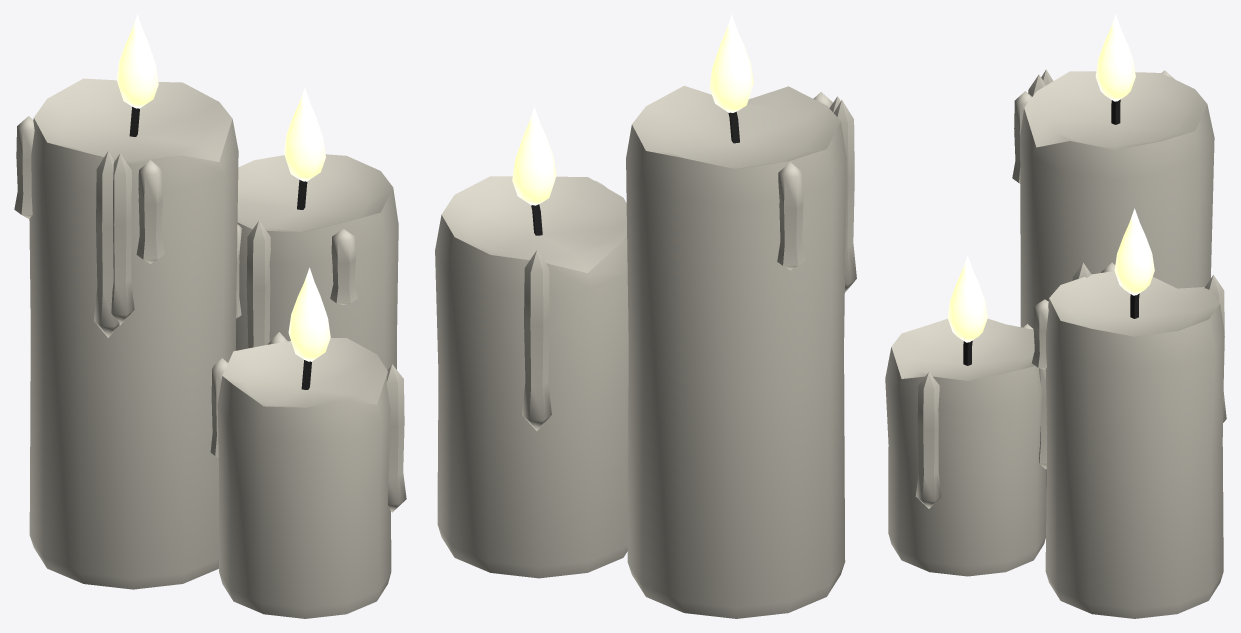
File: candles.glb
3 views of the same model, side by side, from view 1: azimuth 30°, elevation 25°; view 2: azimuth 150°, elevation 25°; view 3: azimuth 270°, elevation 25° (orthographic). The views are drawn at different scales.
Parts seen in each view (by area): view 1: candles; view 2: candles; view 3: candles.
Part boxes in pixels (box(x1,y1,x2,y2)): candles: box(14, 14, 406, 618); candles: box(435, 14, 856, 618); candles: box(885, 14, 1226, 618).
Size of the model in its own units: 0.1202 by 0.172 by 0.1084.
